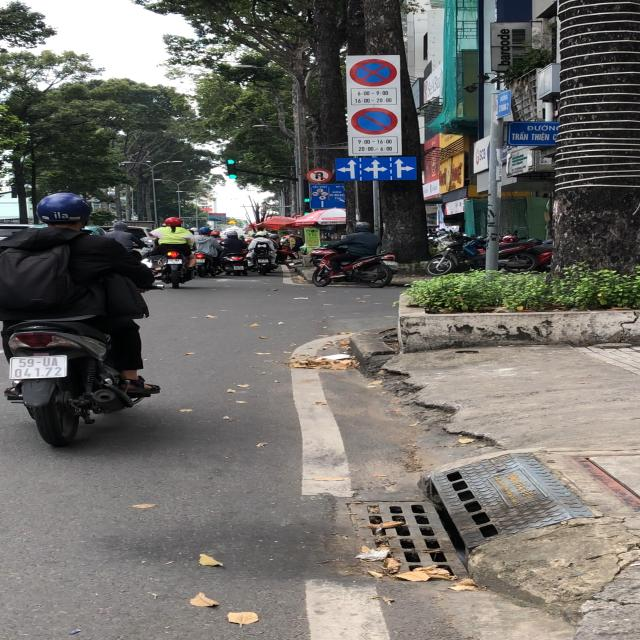Bien bao cam do xe: (348, 105, 404, 137)
Bien bao cam dung xe va do xe: (347, 56, 403, 89)
Bien bao cam quay dau xe: (303, 167, 335, 184)
